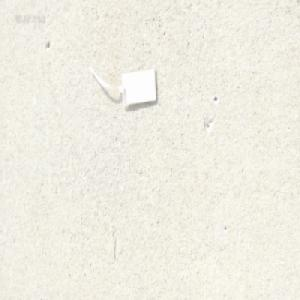LuggageTag: (85, 63, 157, 109)
